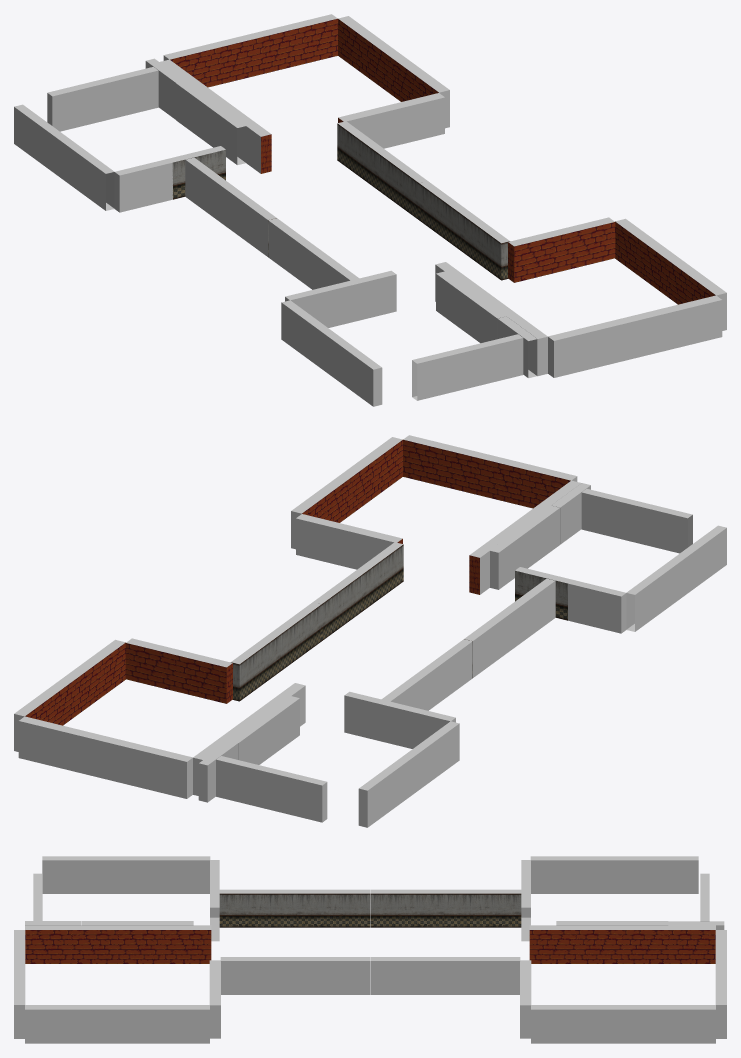
File: H-PatternWallFixV2.fbx
3 renders of one model, top to bottom at view 1: azimuth 30°, elevation 25°; view 2: azimuth 150°, elevation 25°; view 3: azimuth 270°, elevation 25°, orthographic. The views are drawn at different scales.
Visible parts, largest first — view 1: Cube.006; view 2: Cube.006; view 3: Cube.006.
Boxes of the visible parts, x1,y1,x2,y2 form: Cube.006: (14,14,726,406); Cube.006: (14,435,726,827); Cube.006: (14,856,726,1043).
Bounding box in the file's own units: 7754 × 805 × 15234.
